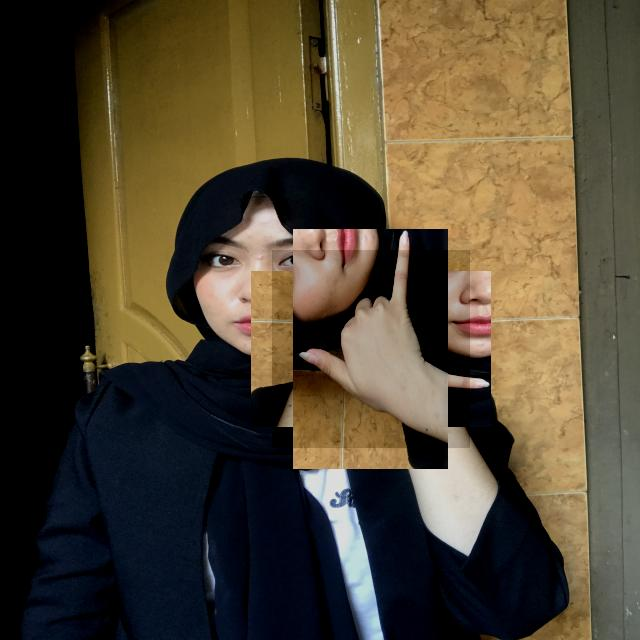telpon: (272, 250, 470, 448)
